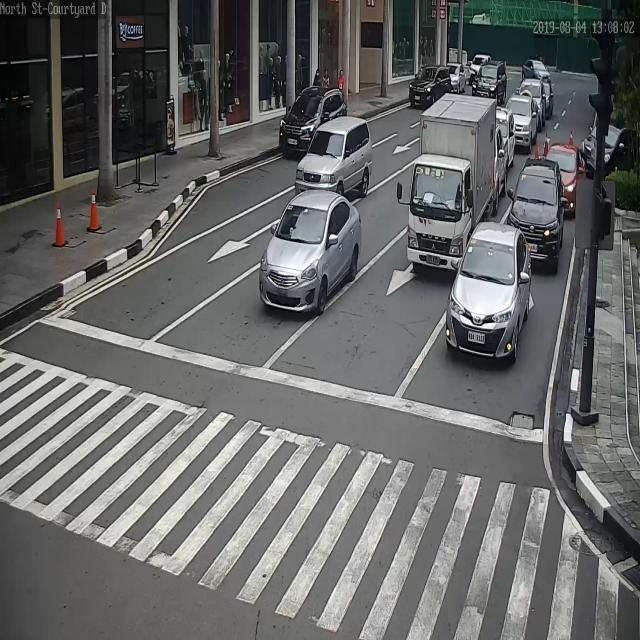car: (444, 219, 532, 363), (258, 190, 360, 312), (506, 156, 565, 269), (295, 117, 372, 195), (280, 87, 348, 162), (580, 120, 640, 176), (547, 143, 585, 216), (409, 64, 451, 110), (506, 96, 538, 151), (517, 78, 545, 128), (472, 61, 507, 101), (495, 104, 517, 165), (495, 125, 510, 209), (468, 53, 493, 84), (446, 60, 466, 94), (521, 59, 549, 80), (542, 81, 554, 118)
motorcycle: (406, 92, 495, 280)
